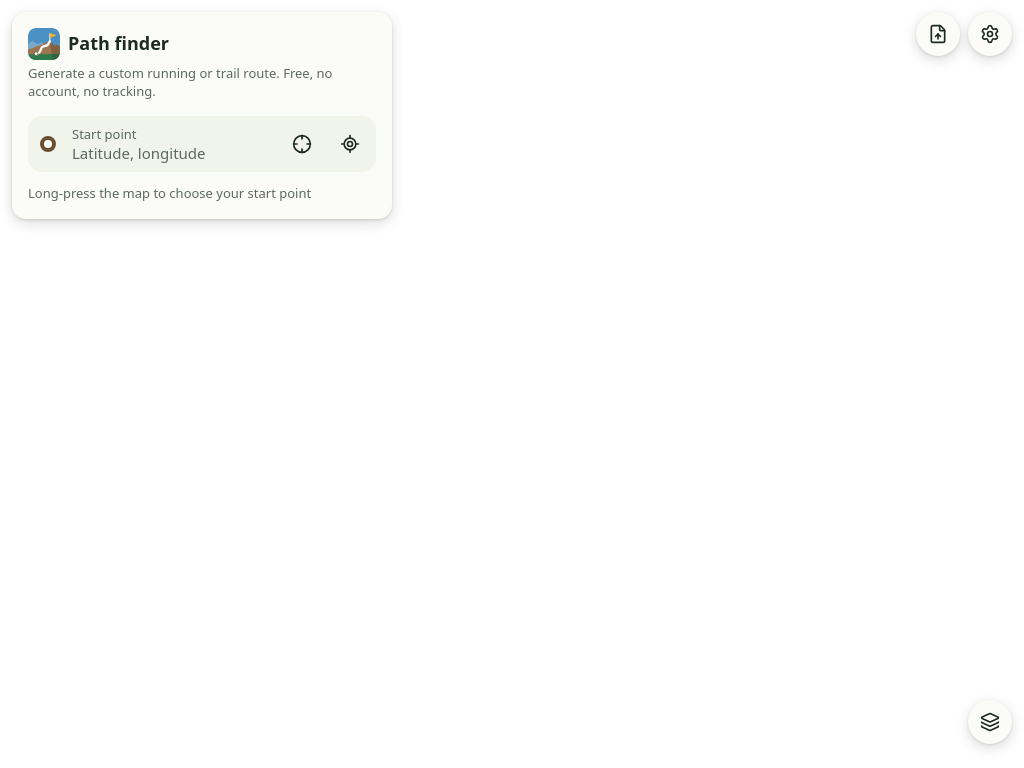
Test: App › shows the settings button again on desktops once the page is closed
This screenshot has width=1024, height=768.
Click the link with test id "criteria-settings" at {"x": 990, "y": 34}, box [968,12,1012,56]
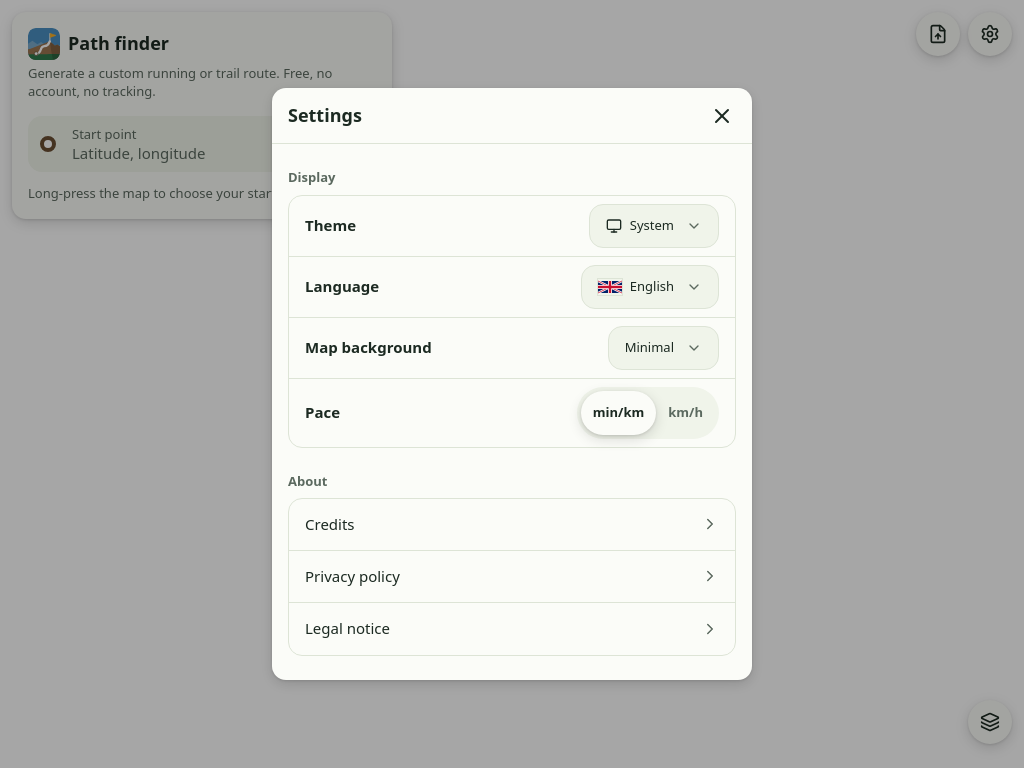
Click the link with test id "sub-page-close" at {"x": 722, "y": 116}, box [710,104,734,128]
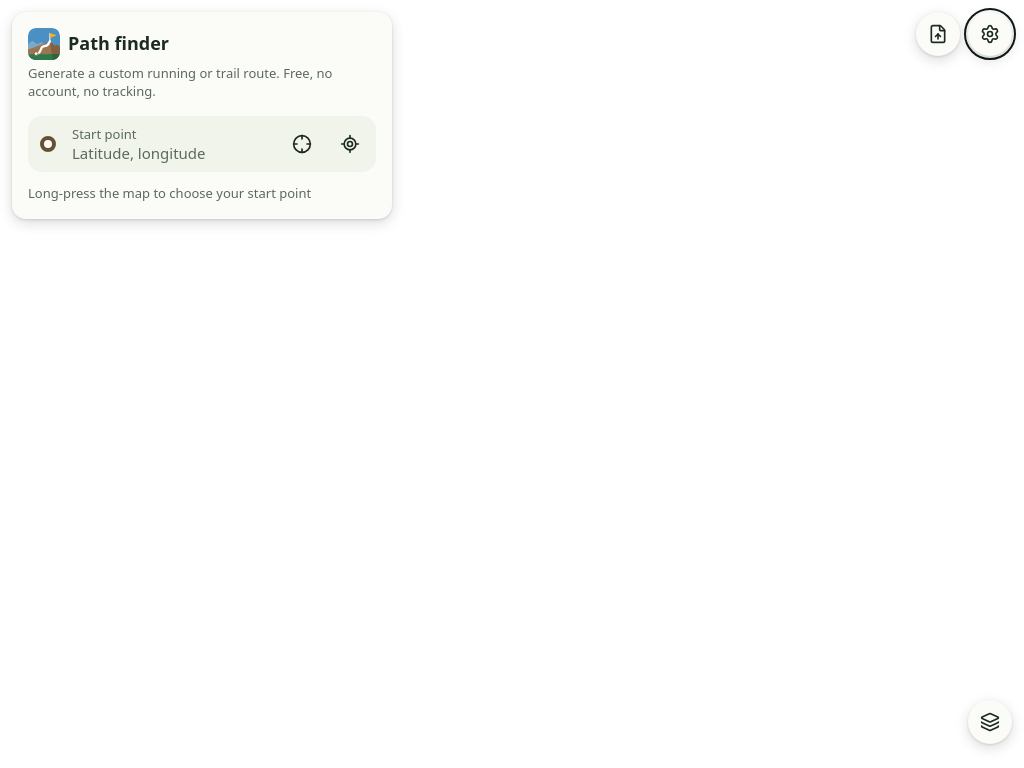
Expected: the link with test id "criteria-settings" is shown, [968,12,1012,56]
Expected: the dialog with test id "sub-page" is gone
